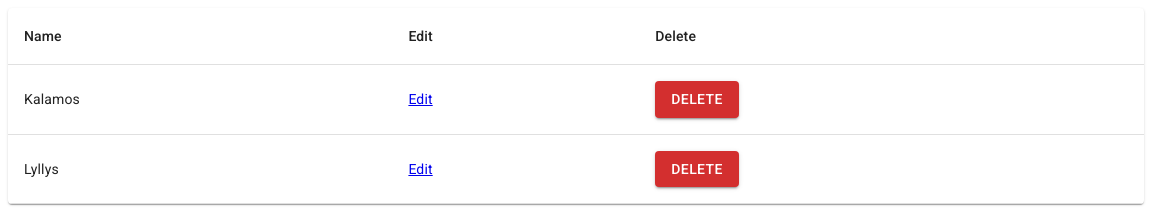
Test: AdminRestaurants › deletes a restaurant and removes its row after cache invalidation
The image size is (1152, 223).
Click the button "Delete" in the row of "Kalamos" at [697, 99], box [655,81,739,118]
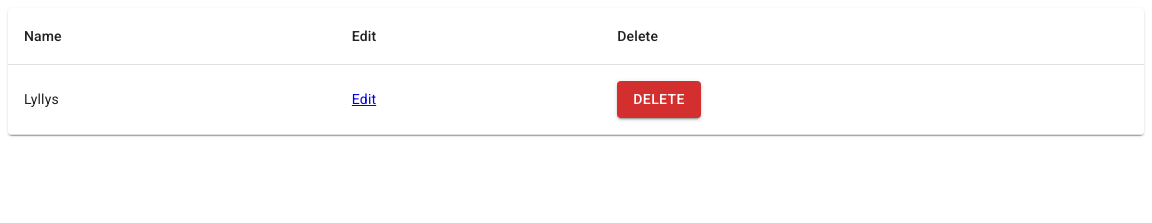
Expected: the text "Lyllys" is shown, [8,64,336,134]
Now the text "Kalamos" is gone
